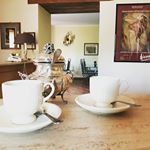cups: (1, 77, 55, 119), (84, 73, 127, 110)
